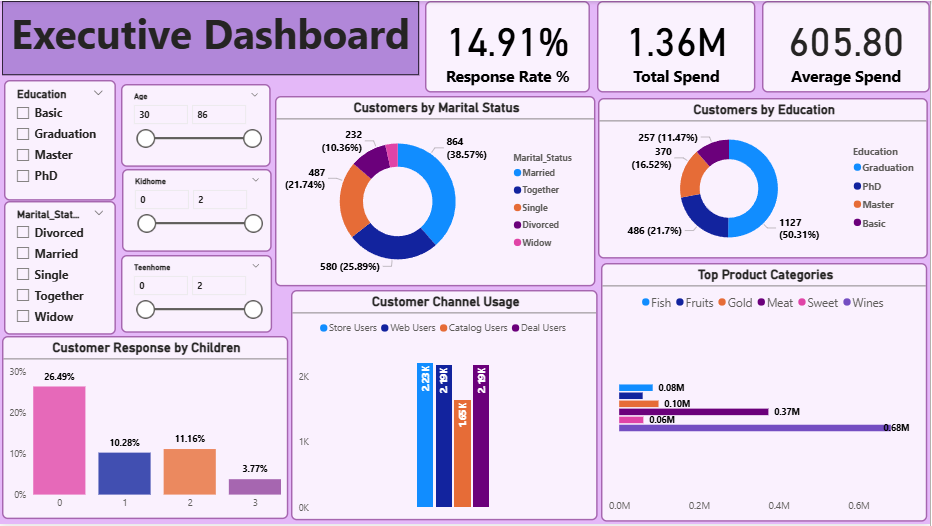

This screenshot's page, from the dashboard's own definition file:
{"tool":"powerbi","page":{"name":"Executive Dashboard","canvas":[1280,720],"ordinal":0},"visuals":[{"type":"card","fields":{"Values":["Clean_marketing_analysis.Response Rate %"]},"box":[585.4,0,226.8,126.1],"z":0},{"type":"card","fields":{"Values":["Avg(Clean_marketing_analysis.Total_Spend)"]},"box":[1048.8,0,231,126.1],"z":1000},{"type":"card","fields":{"Values":["Sum(Clean_marketing_analysis.Total_Spend)"]},"box":[822,0,218.3,126.1],"z":2000},{"type":"clusteredBarChart","title":"Top Product Categories","fields":{"Y":["Clean_marketing_analysis.Fish","Clean_marketing_analysis.Fruits","Clean_marketing_analysis.Gold","Clean_marketing_analysis.Meat","Clean_marketing_analysis.Sweet","Clean_marketing_analysis.Wines"]},"box":[827.7,360,449.3,355.7],"z":3000},{"type":"clusteredColumnChart","title":"Customer Channel Usage","fields":{"Y":["Clean_marketing_analysis.Store Users","Clean_marketing_analysis.Web Users","Clean_marketing_analysis.Catalog Users","Clean_marketing_analysis.Deal Users"]},"box":[401.1,398.3,422.4,317.5],"z":4000},{"type":"clusteredColumnChart","title":"Customer Response by Children","fields":{"Category":["Clean_marketing_analysis.Total_Children"],"Y":["Clean_marketing_analysis.Response Rate %"]},"box":[2.8,460.6,394,252.3],"z":5000},{"type":"donutChart","title":"Customers by Education","fields":{"Category":["Clean_marketing_analysis.Education"],"Y":["CountNonNull(Clean_marketing_analysis.ID)"]},"box":[823.5,133.2,453.5,221.1],"z":6000},{"type":"donutChart","title":"Customers by Marital Status","fields":{"Category":["Clean_marketing_analysis.Marital_Status"],"Y":["CountNonNull(Clean_marketing_analysis.ID)"]},"box":[378.4,130.4,440.8,262.2],"z":7000},{"type":"textbox","box":[2.8,0,574,102],"z":8000},{"type":"slicer","fields":{"Values":["Clean_marketing_analysis.Marital_Status"]},"box":[5.7,275,154.5,184.3],"z":9000},{"type":"slicer","fields":{"Values":["Clean_marketing_analysis.Education"]},"box":[5.7,109.1,154.5,165.8],"z":10000},{"type":"slicer","fields":{"Values":["Clean_marketing_analysis.Age"]},"box":[166.5,113.5,206.5,113.5],"z":11000},{"type":"slicer","fields":{"Values":["Clean_marketing_analysis.Kidhome"]},"box":[167.7,231,206.5,113.5],"z":12000},{"type":"slicer","fields":{"Values":["Clean_marketing_analysis.Teenhome"]},"box":[166.5,349.7,207.7,107.1],"z":13000}]}

Visuals, with their boxes in screenshot pixels (x1, y1, x2, y2), scaled from the page's 1280x720 canvas onto the 932x526 screenshot:
card - Clean_marketing_analysis.Response Rate %: x1=426 y1=0 x2=591 y2=92
card - Avg(Clean_marketing_analysis.Total_Spend): x1=764 y1=0 x2=931 y2=92
card - Sum(Clean_marketing_analysis.Total_Spend): x1=599 y1=0 x2=757 y2=92
"Top Product Categories" clusteredBarChart: x1=603 y1=263 x2=930 y2=523
"Customer Channel Usage" clusteredColumnChart: x1=292 y1=291 x2=600 y2=523
"Customer Response by Children" clusteredColumnChart: x1=2 y1=336 x2=289 y2=521
"Customers by Education" donutChart: x1=600 y1=97 x2=930 y2=259
"Customers by Marital Status" donutChart: x1=276 y1=95 x2=596 y2=287
textbox: x1=2 y1=0 x2=420 y2=75
slicer - Clean_marketing_analysis.Marital_Status: x1=4 y1=201 x2=117 y2=336
slicer - Clean_marketing_analysis.Education: x1=4 y1=80 x2=117 y2=201
slicer - Clean_marketing_analysis.Age: x1=121 y1=83 x2=272 y2=166
slicer - Clean_marketing_analysis.Kidhome: x1=122 y1=169 x2=272 y2=252
slicer - Clean_marketing_analysis.Teenhome: x1=121 y1=255 x2=272 y2=334
